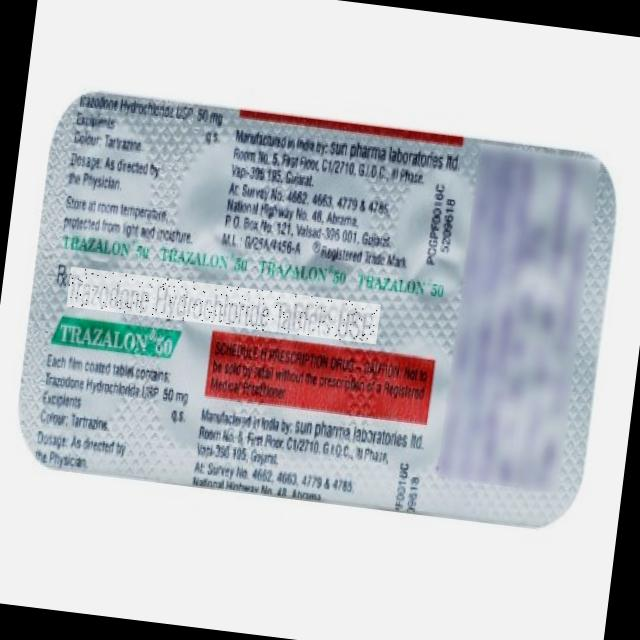Medicine-name: (67, 267, 382, 345)
